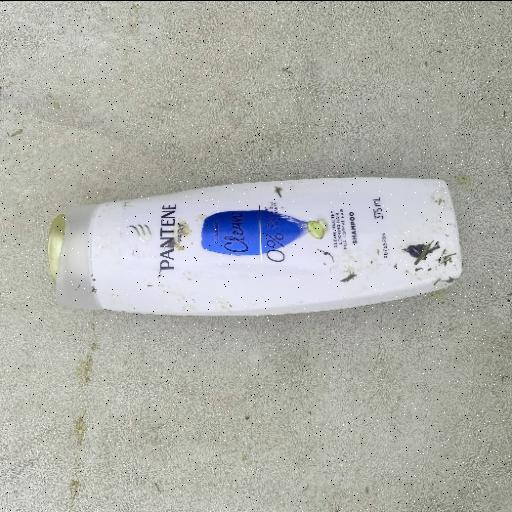Plastic: (46, 174, 464, 318)
